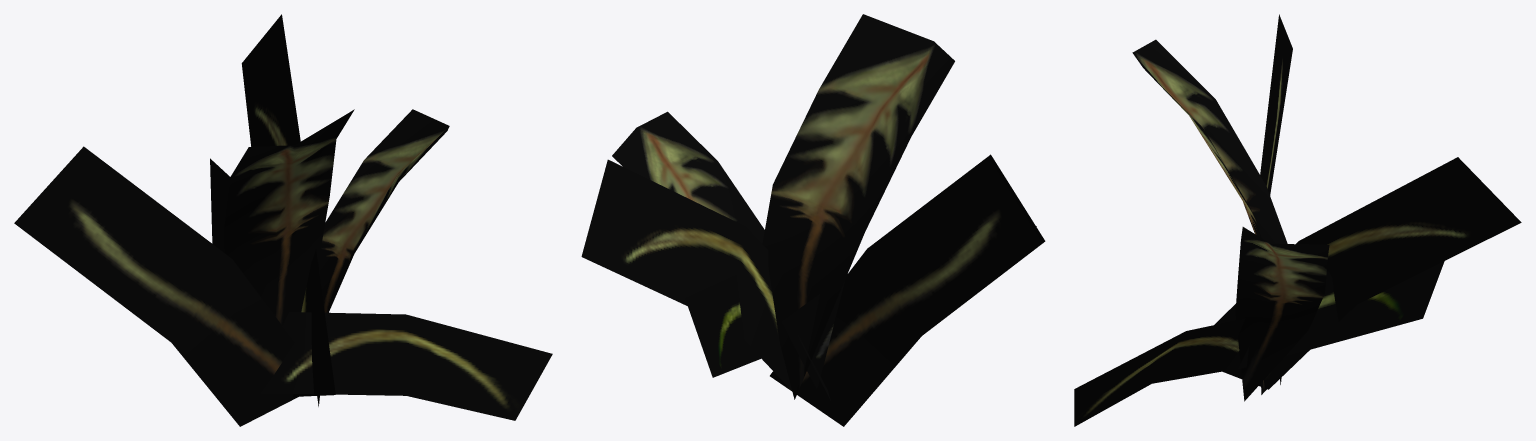
The model's file is FOL_GrassB.FBX.
3 views of the same model, side by side, from view 1: azimuth 30°, elevation 25°; view 2: azimuth 150°, elevation 25°; view 3: azimuth 270°, elevation 25° (orthographic). The views are drawn at different scales.
Parts seen in each view (by area): view 1: FOL_GrassB; view 2: FOL_GrassB; view 3: FOL_GrassB.
Part boxes in pixels (x1=…): FOL_GrassB: x1=14, y1=14, x2=552, y2=426; FOL_GrassB: x1=581, y1=14, x2=1045, y2=426; FOL_GrassB: x1=1074, y1=14, x2=1521, y2=426.
Bounding box in the file's own units: 154 × 123 × 148.
1 material, 1 textured.
